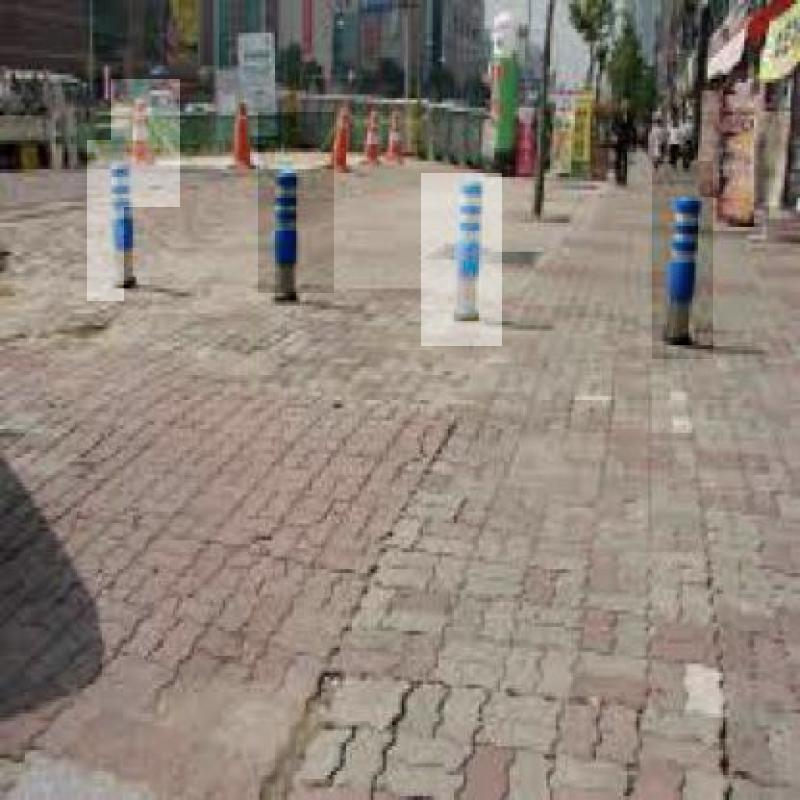bolard: (421, 173, 502, 346), (258, 112, 334, 293), (652, 162, 713, 360), (111, 79, 180, 207), (87, 140, 124, 301)
